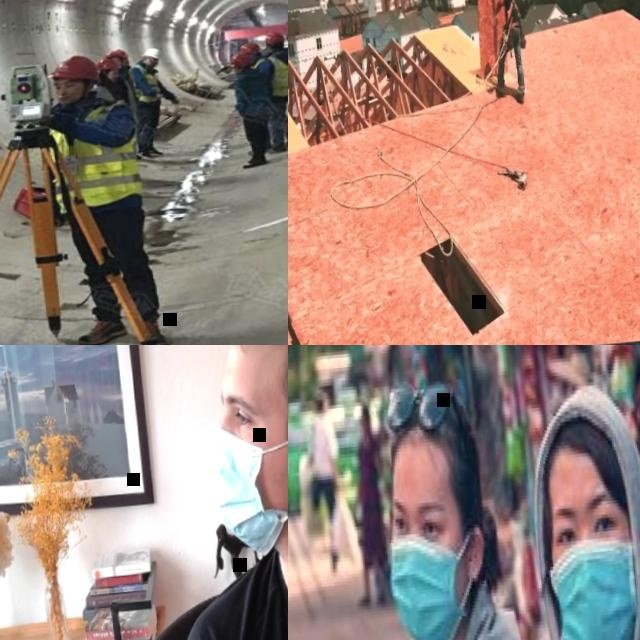Hardhat: (51, 53, 102, 87), (94, 58, 122, 73), (230, 53, 254, 68), (138, 48, 162, 62), (263, 32, 285, 46), (239, 43, 261, 55), (110, 48, 129, 60)
Mask: (206, 417, 288, 562), (546, 535, 640, 640), (386, 533, 469, 640), (148, 61, 159, 69)
NO-Hardhat: (535, 382, 640, 493), (385, 391, 483, 493), (313, 394, 326, 408), (360, 404, 370, 419)
NO-Mask: (56, 90, 81, 106), (107, 74, 116, 83), (234, 68, 241, 74)
NO-Safety Vest: (355, 435, 382, 510), (236, 70, 275, 121), (96, 79, 138, 125), (308, 415, 336, 475), (502, 0, 519, 25), (119, 69, 133, 93)
Person: (332, 383, 583, 640), (124, 345, 288, 640), (32, 47, 173, 345), (521, 369, 640, 640), (340, 403, 394, 611), (302, 393, 350, 584), (126, 44, 185, 161), (230, 50, 278, 170), (236, 41, 281, 158), (104, 47, 146, 165), (484, 0, 528, 107), (259, 29, 288, 154), (96, 57, 131, 108)
Safety Vest: (42, 96, 146, 218), (132, 62, 162, 102), (269, 51, 288, 99), (253, 57, 273, 74)
